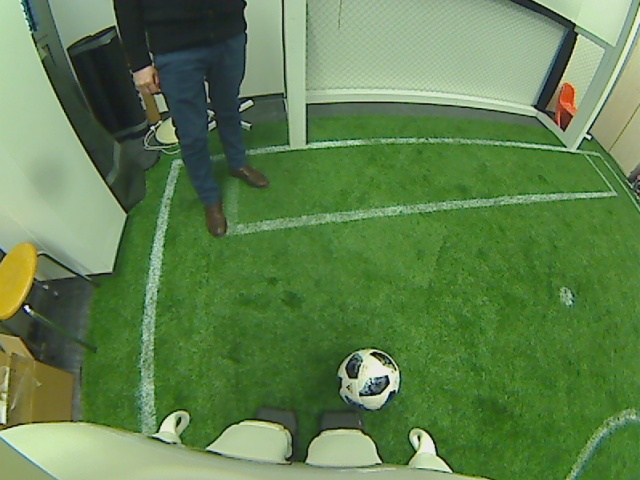ball: (334, 343, 400, 411)
